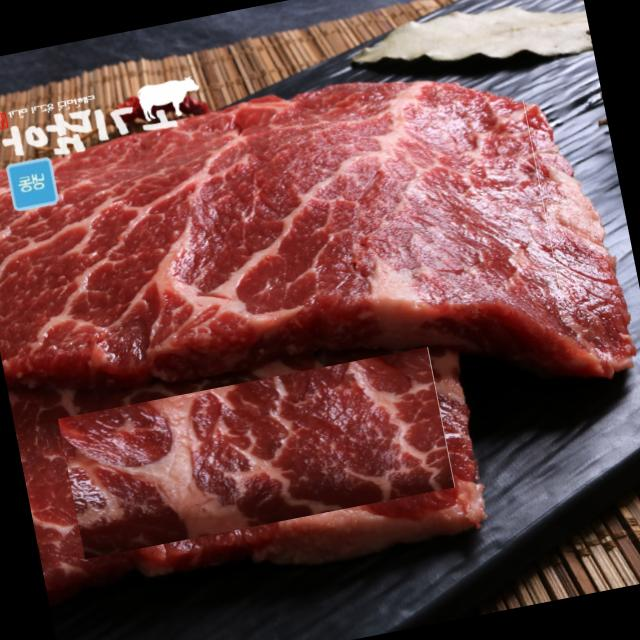beef: (122, 100, 560, 368), (58, 346, 456, 559)
